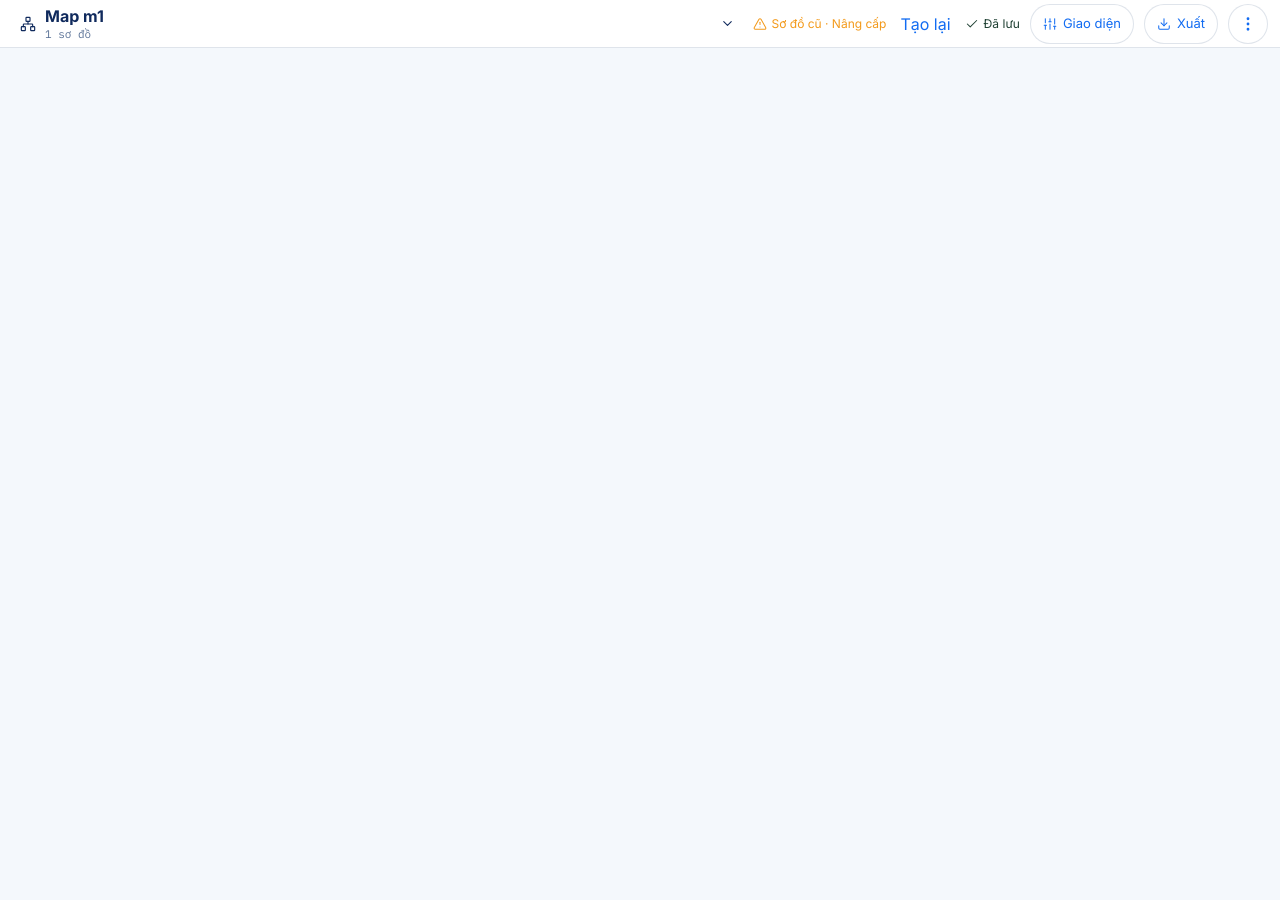
Scenario: Export Studio — document formats › PDF appearance step shows mode/pageSize/orientation/singlePage/background/font/content — but no spacing or connector-thickness (image-only controls)
The width and height of the screenshot is (1280, 900).
Click the button with aria-label "Xuất sơ đồ". click: (1181, 24)
box: [1144,4,1218,44]
(page scrolled)
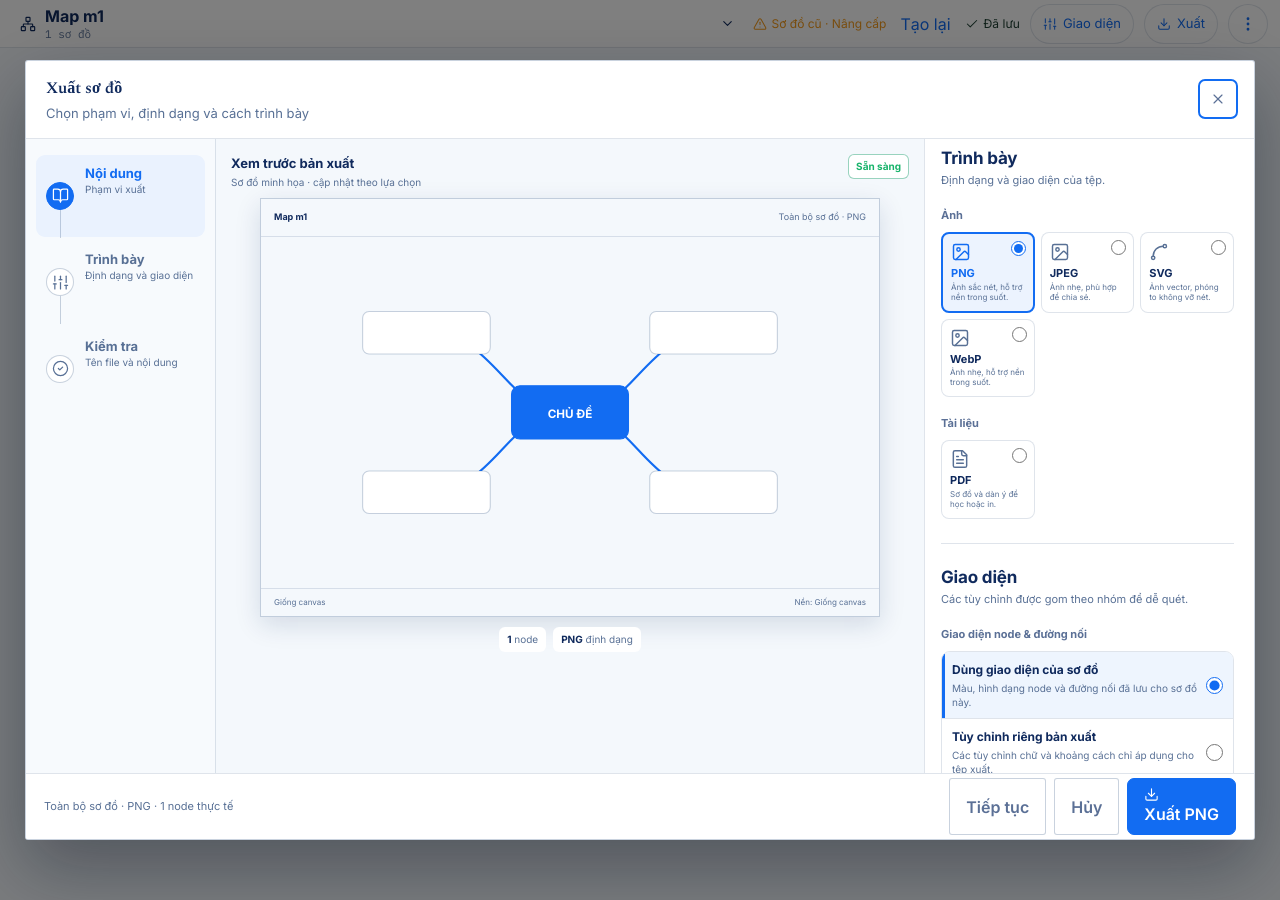
Click the radio button labelled "PDF Sơ đồ và dàn ý để học hoặc in.". click: (1019, 456)
box: [1012,448,1027,463]
(page scrolled)
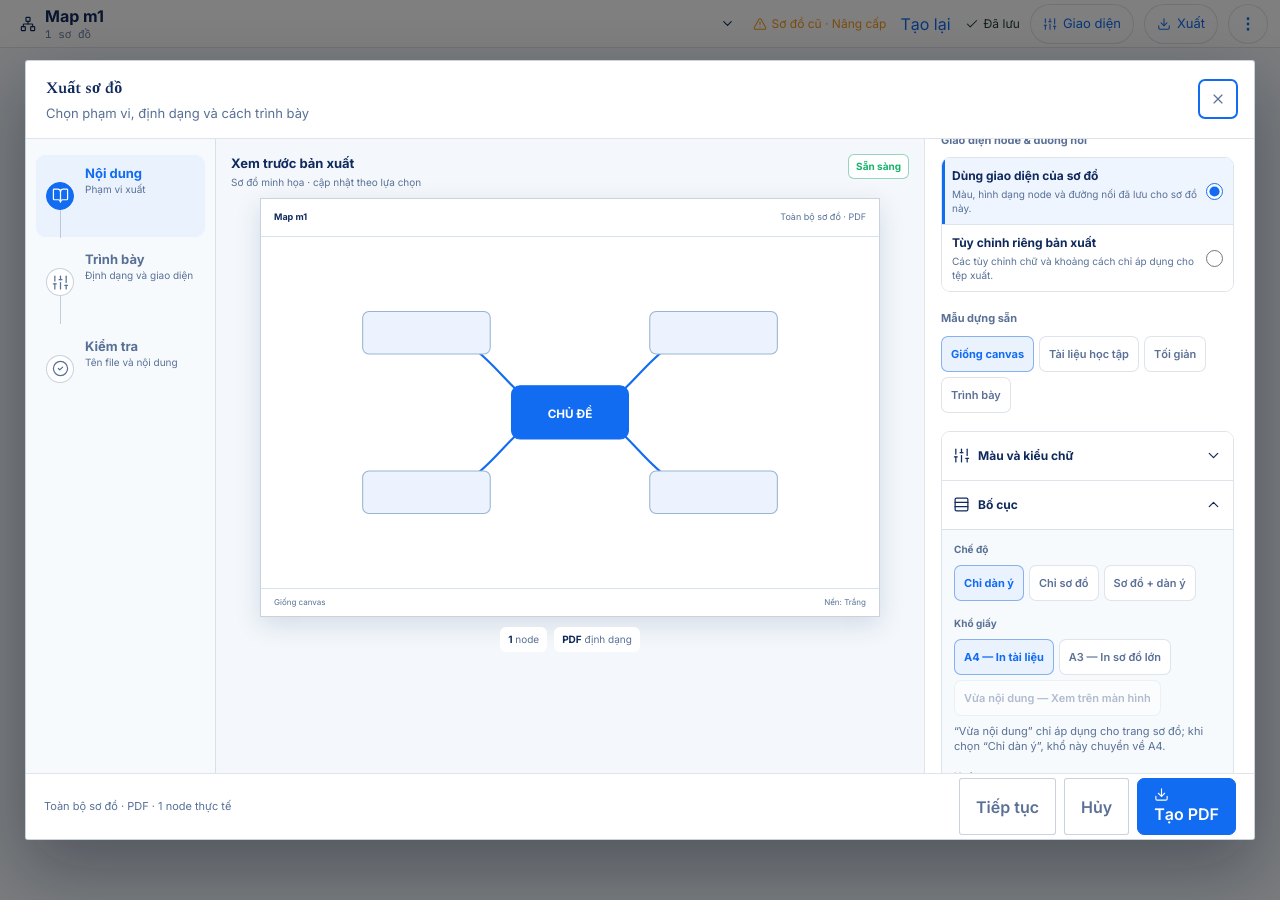
Result: the element with test id "doc-appearance" is shown at [941,139,1234,773]
Result: the element with test id "doc-appearance" shows "Khổ giấy" at [954,617,997,629]
Result: the element with test id "doc-appearance" shows "Chế độ" at [954,543,988,555]
Click the button "Màu và kiểu chữ". click: (1026, 455)
box: [942,432,1233,480]
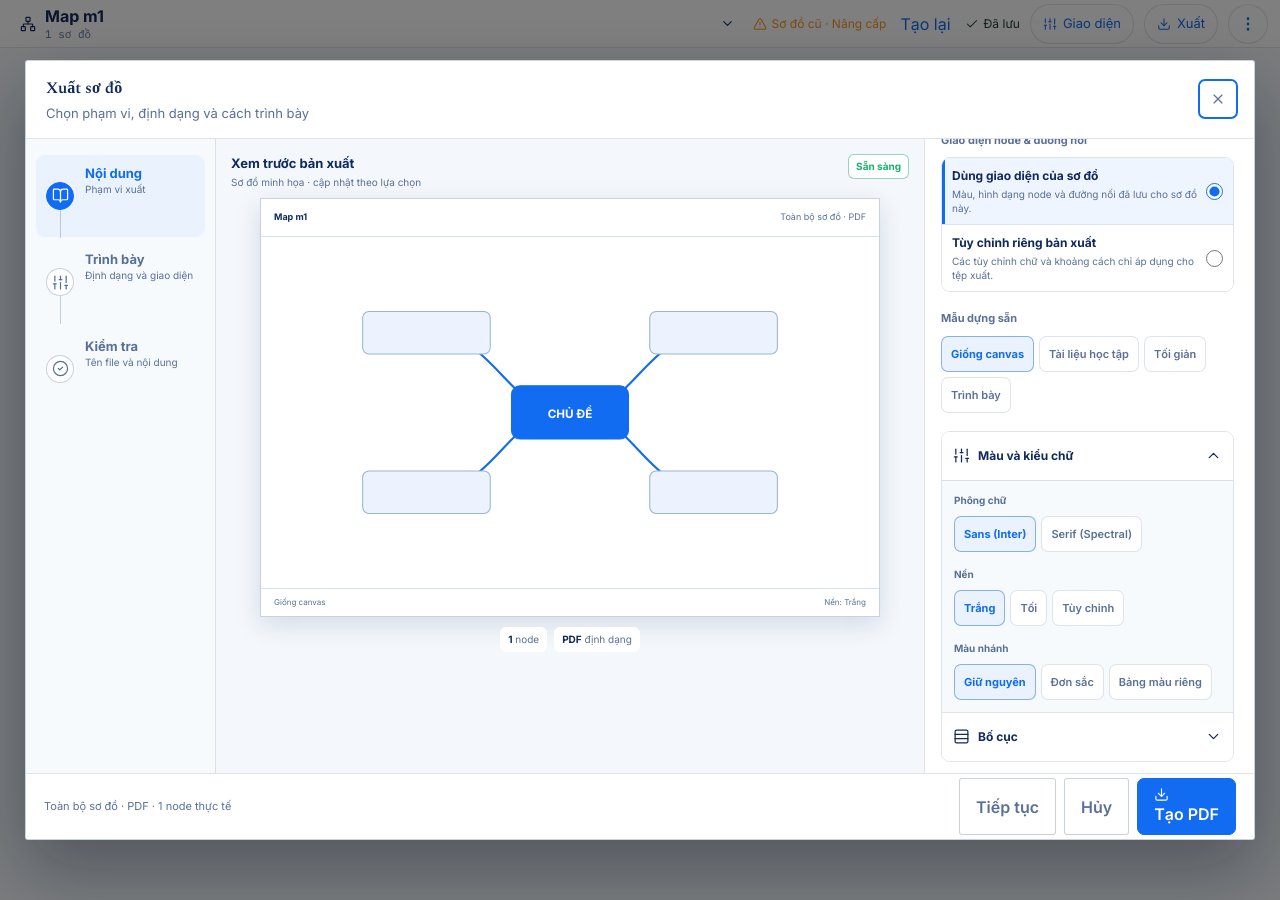
Expected: the element with test id "doc-appearance" does not show "Khoảng cách"
Result: the element with test id "doc-appearance" shows "Nền" at [954,568,974,580]
Result: the element with test id "doc-appearance" shows "Phông chữ" at [954,494,1006,506]
